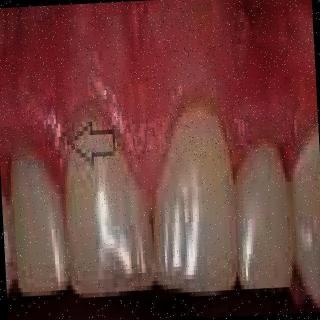Gum Swelling: (6, 84, 320, 184)
